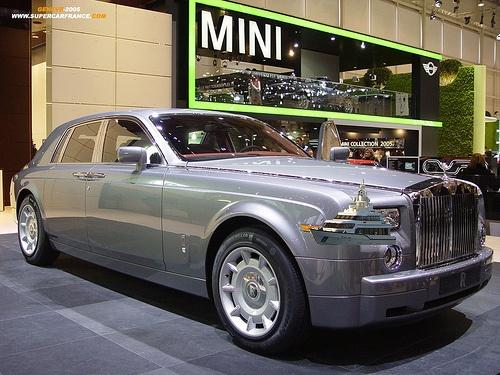tampered: (310, 180, 396, 245)
